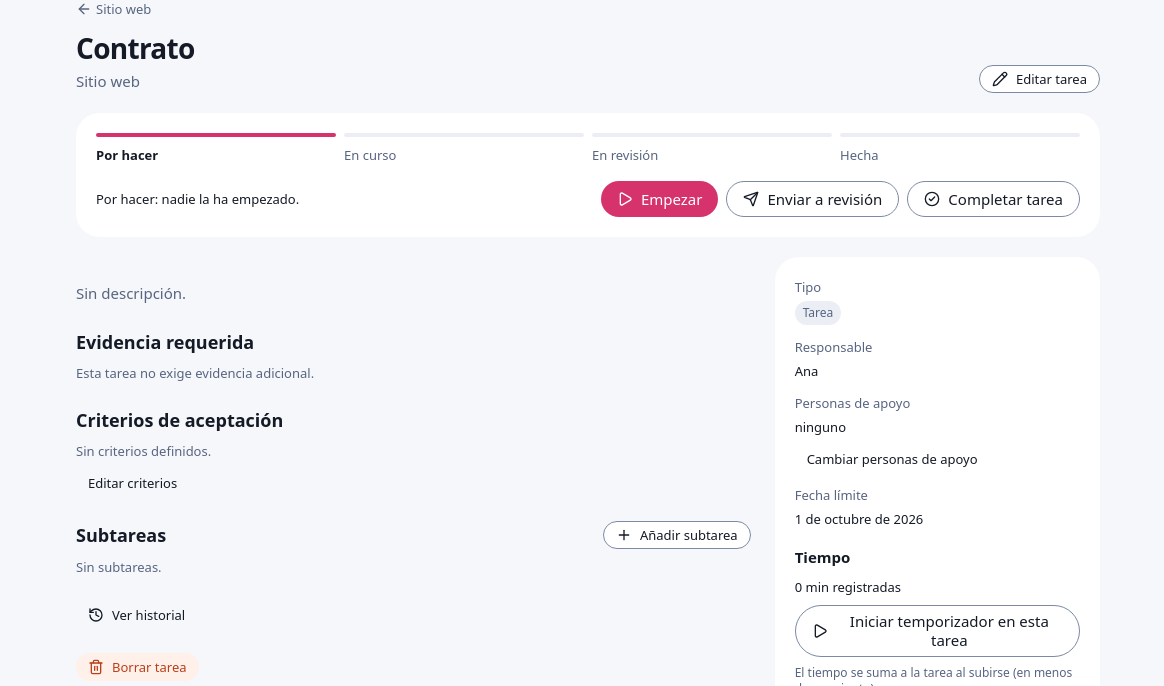
Pantalla de tarea (F3 v3) › editar abre el formulario completo en la pantalla de la tarea; Esc cancela (C7, AC-43)
Click the button "Editar tarea".
click(1040, 79)  # box x1=979 y1=65 x2=1100 y2=93
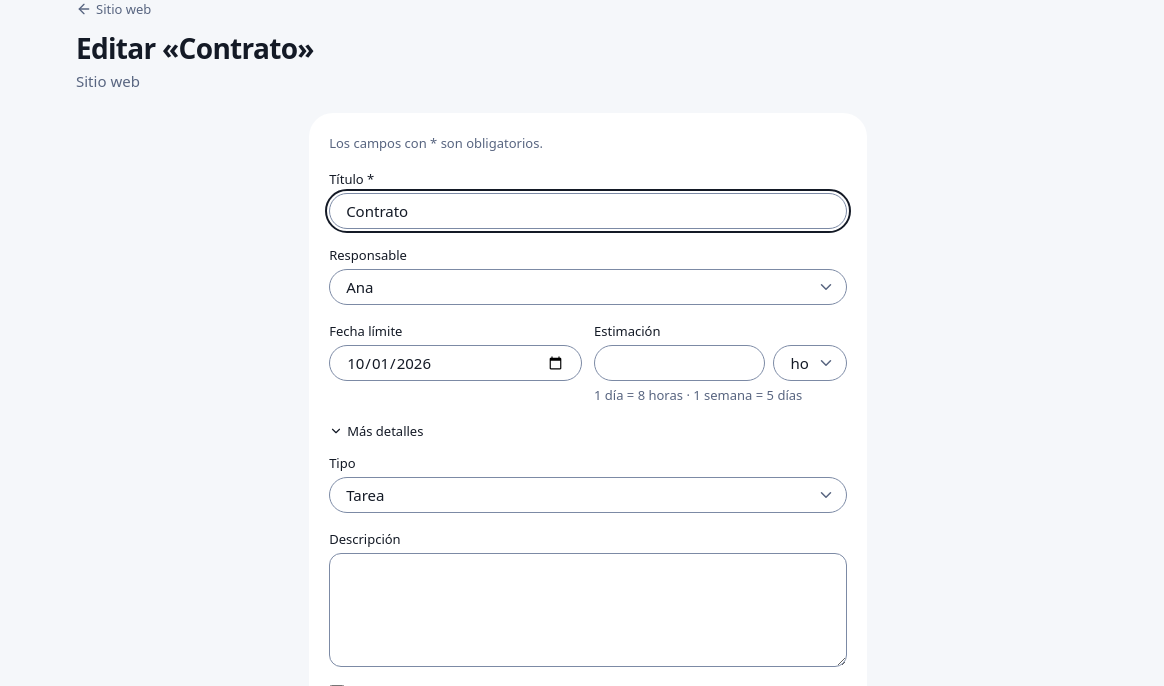
Result: the field labelled "Título *" holds "Contrato" at x1=329 y1=193 x2=847 y2=229
Press Escape
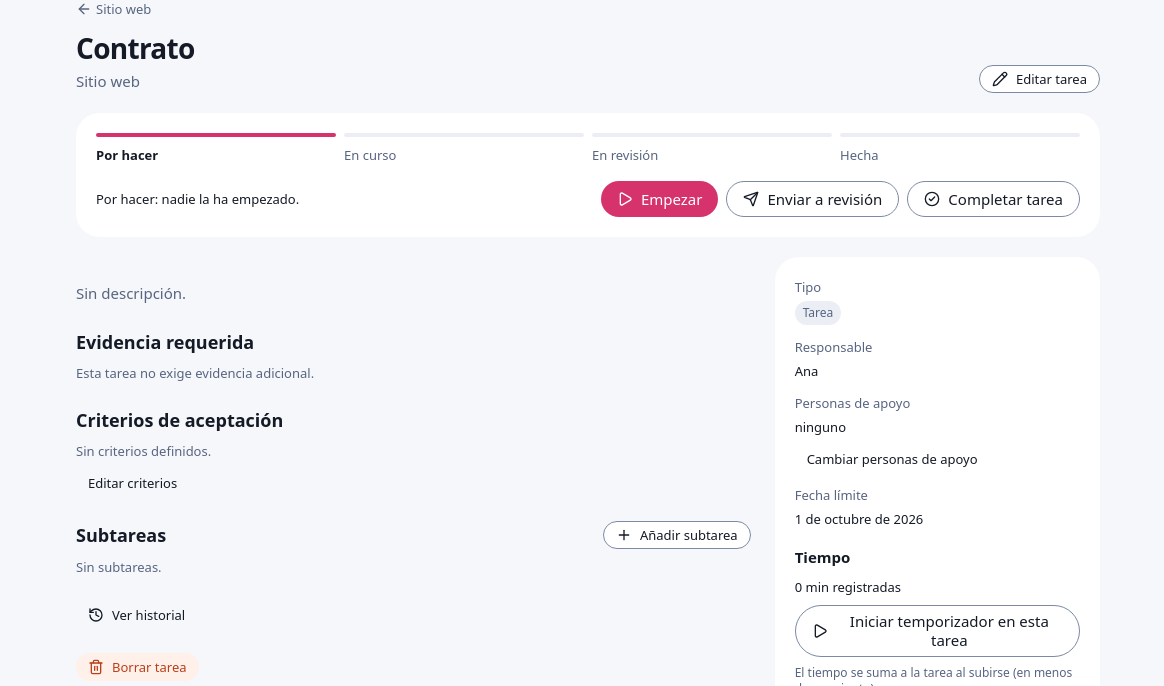
Result: the label labelled "Título *" is gone
Click the button "Editar tarea".
click(1040, 79)  # box x1=979 y1=65 x2=1100 y2=93
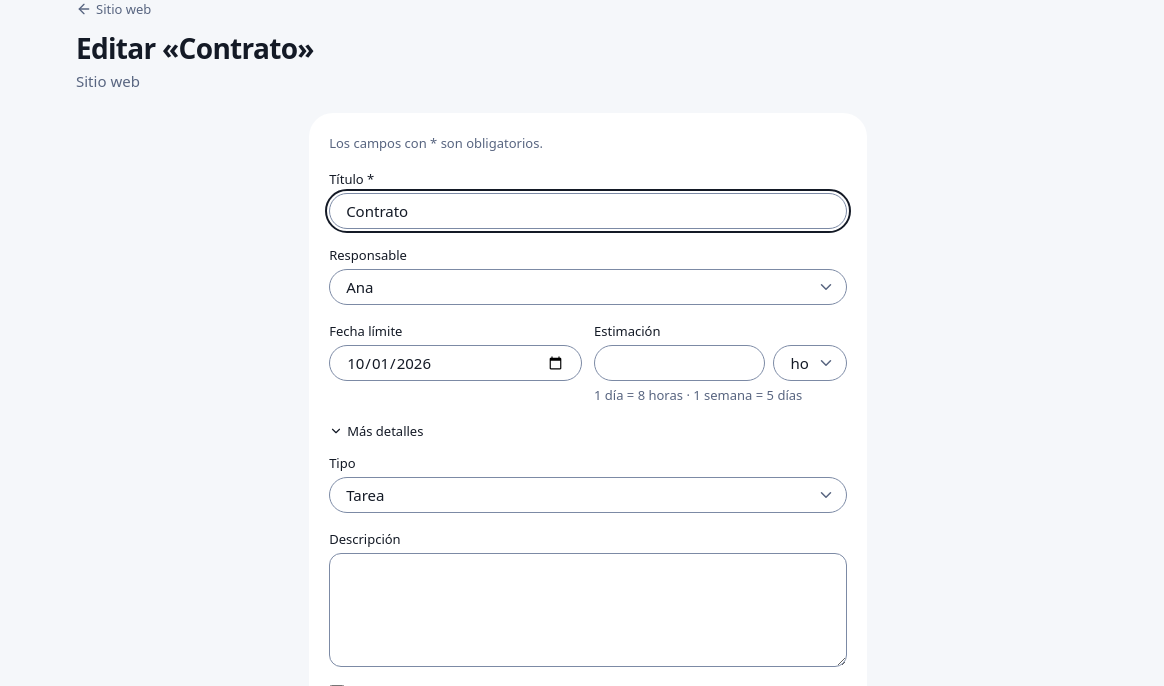
Replace the text in the field labelled "Título *" with "Contrato firmado" at coordinates (588, 211), box x1=329 y1=193 x2=847 y2=229
(page scrolled)
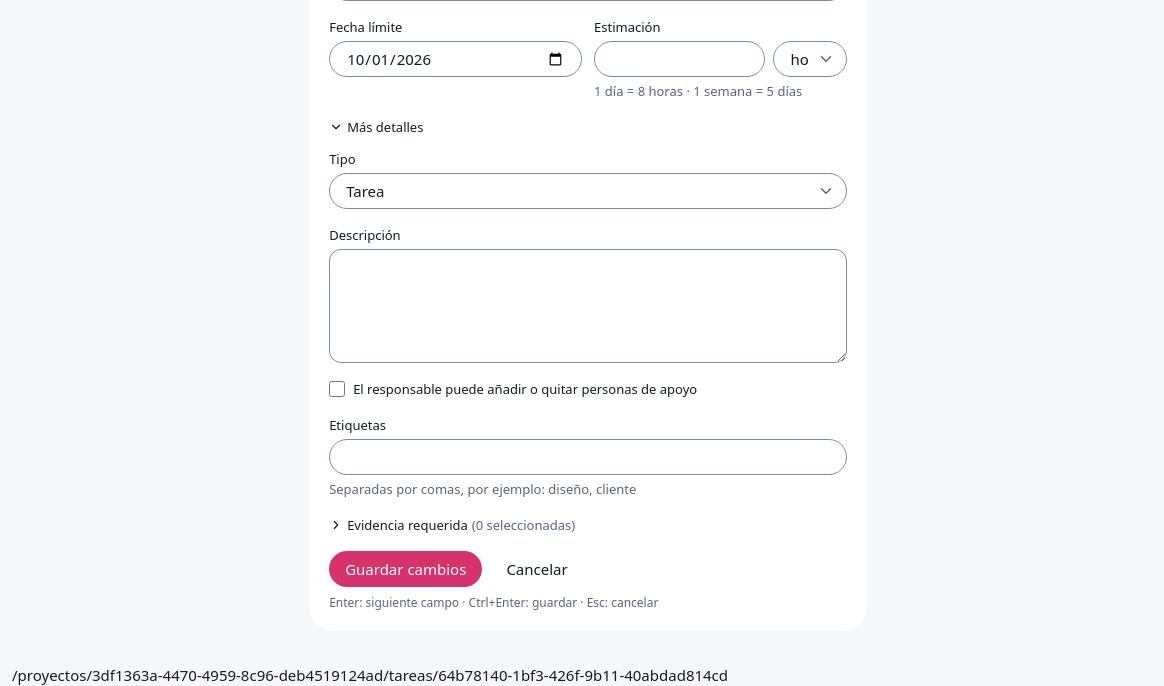
Click the button "Guardar cambios".
click(406, 569)  # box x1=329 y1=551 x2=482 y2=587
(page scrolled)
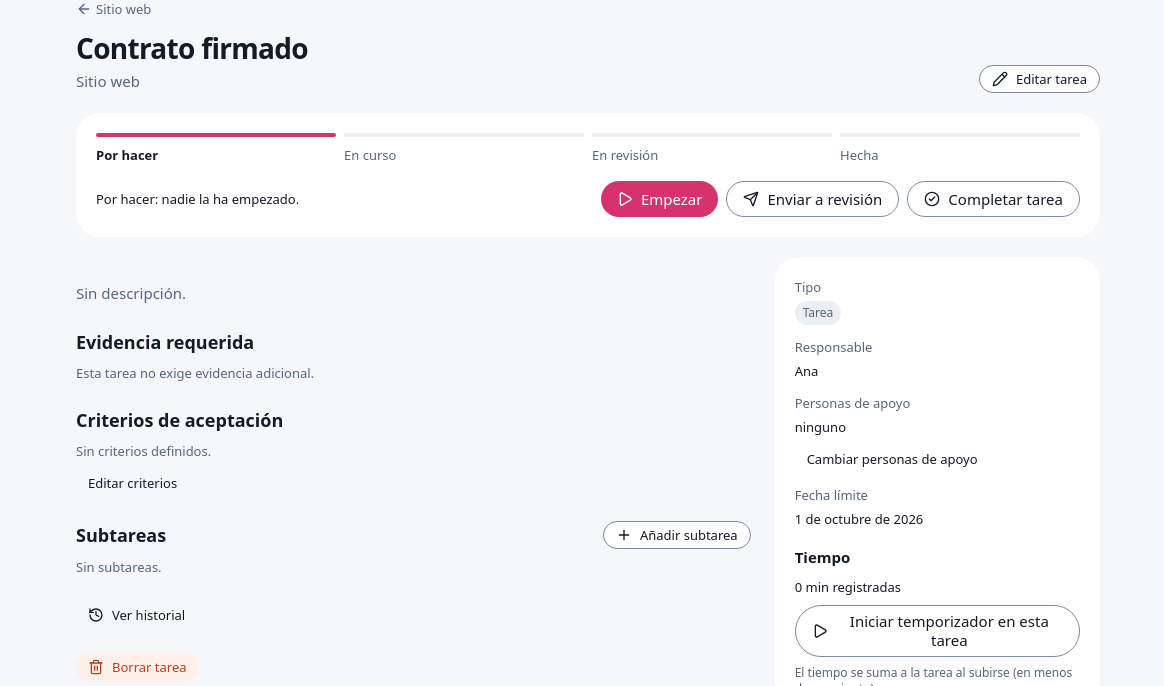
Result: the heading "Contrato firmado" is shown at x1=76 y1=31 x2=308 y2=65
